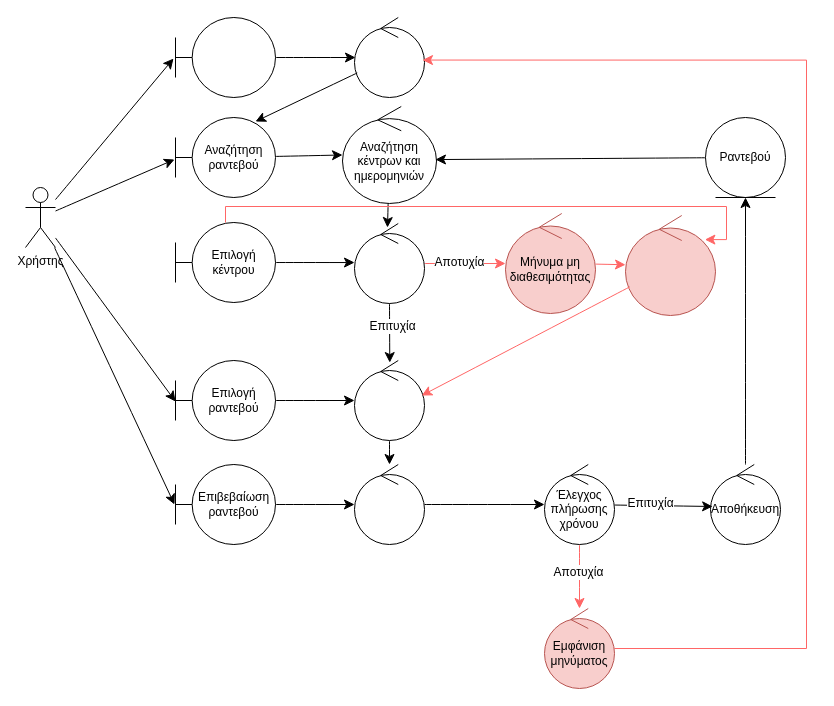
The diagram is 834 pixels wide and 706 high, and some of its shapes have lost their labels. The centre of each missing label's shape, as x and y in pixels:
"Εμφάνιση" goes at point 389,263.
"Εμφάνιση διαθέσιμων ραντεβού" goes at point 389,400.
"Εμφάνιση εναλλακτικών επιλογών" goes at point 670,265.
"Εμφάνιση επιλεγμένου ραντεβού" goes at point 389,504.
"Σύνδεση" goes at point 225,57.
"Φόρτωση αρχικής σελίδας" goes at point 389,57.
